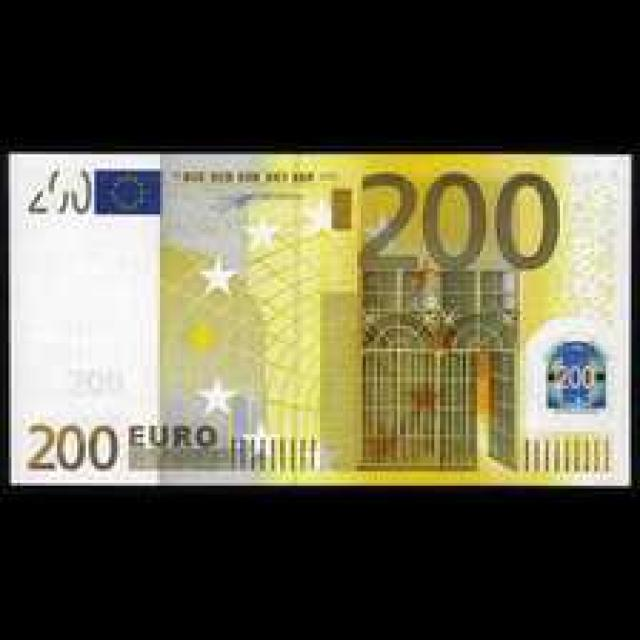banknote: (3, 148, 634, 488), (354, 172, 562, 270), (22, 414, 120, 478)
